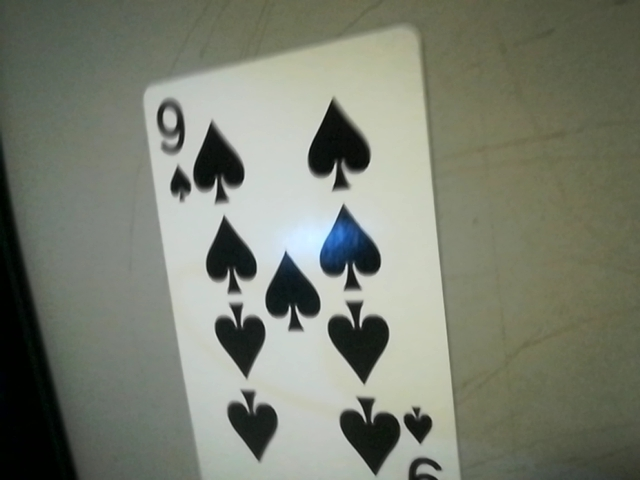ht 9: (140, 89, 197, 205)
